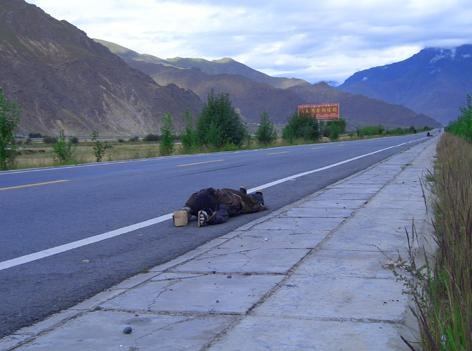falling: (168, 179, 270, 231)
